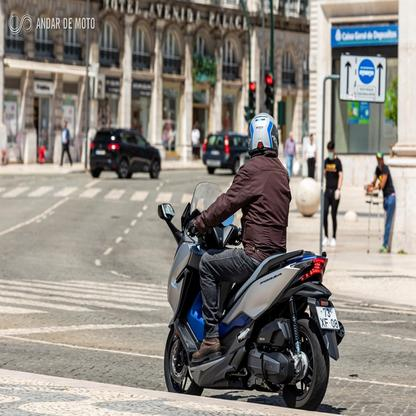target: (157, 113, 345, 410)
